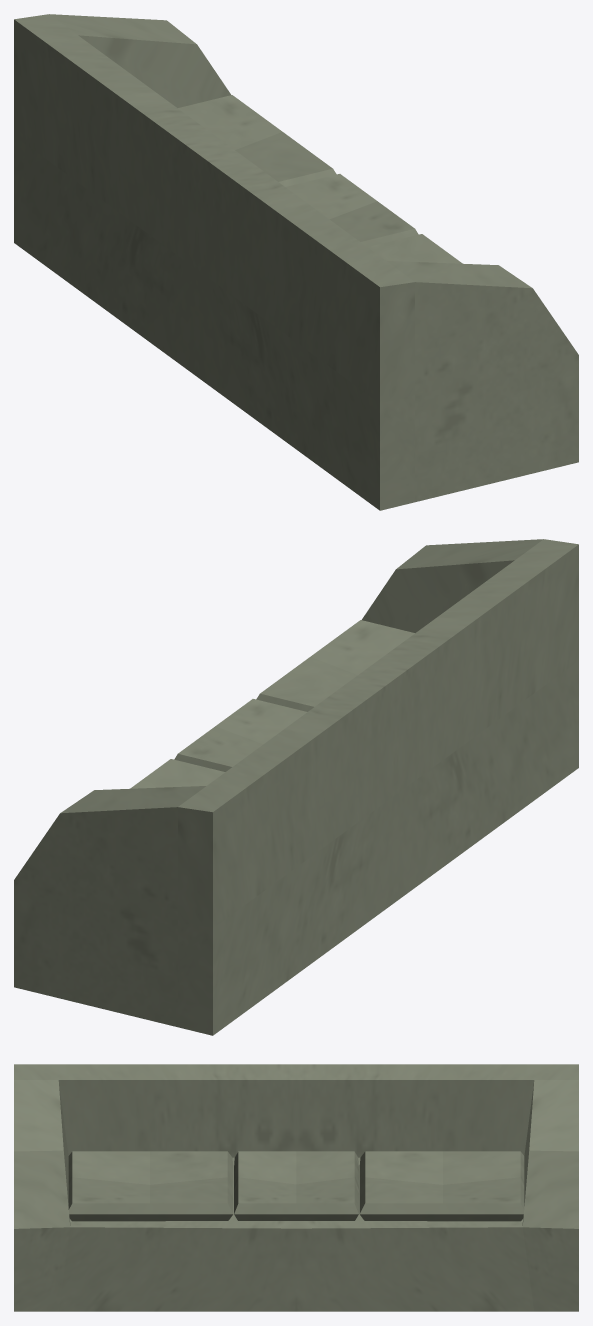
File: couch.fbx
3 renders of one model, top to bottom at view 1: azimuth 30°, elevation 25°; view 2: azimuth 150°, elevation 25°; view 3: azimuth 270°, elevation 25°, orthographic. The views are drawn at different scales.
Parts seen in each view (by area): view 1: Cube.006; view 2: Cube.006; view 3: Cube.006.
Boxes of the visible parts, x1=… form: Cube.006: x1=14, y1=14, x2=578, y2=510; Cube.006: x1=14, y1=539, x2=578, y2=1035; Cube.006: x1=14, y1=1064, x2=578, y2=1311.
Size of the model in its own units: 109 by 117 by 347.
1 material, 1 textured.
